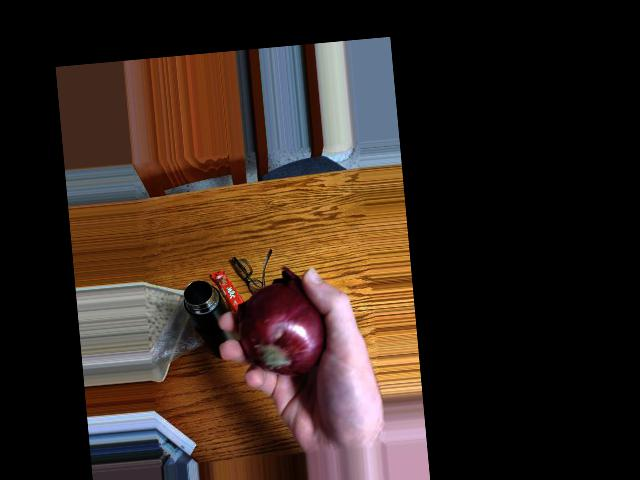onion: (237, 282, 326, 374)
